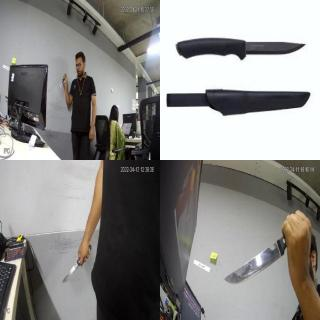knife: (163, 84, 314, 122), (174, 31, 306, 71), (221, 240, 283, 288), (59, 259, 79, 287), (58, 74, 66, 89)
